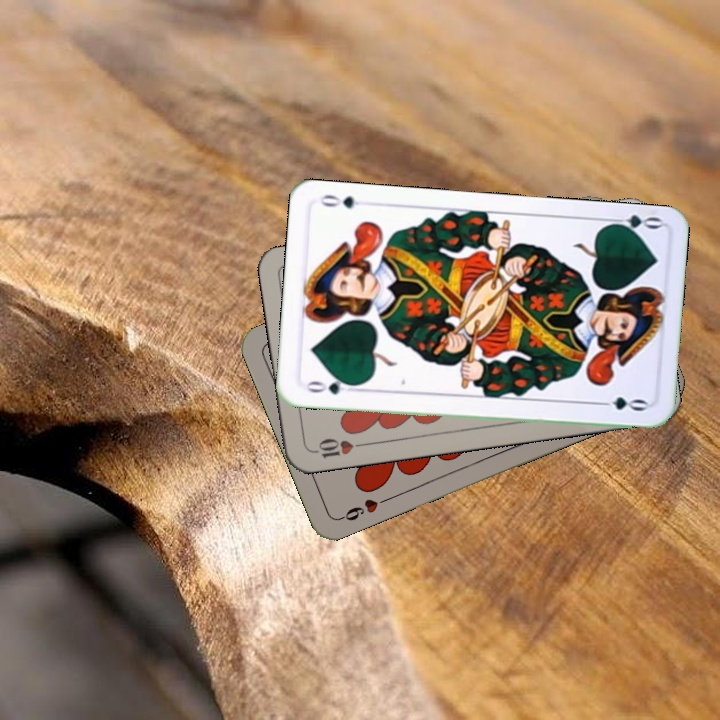GO: (603, 210, 663, 238), (301, 374, 360, 397)
H10: (309, 434, 368, 461)
H9: (335, 493, 392, 524)
